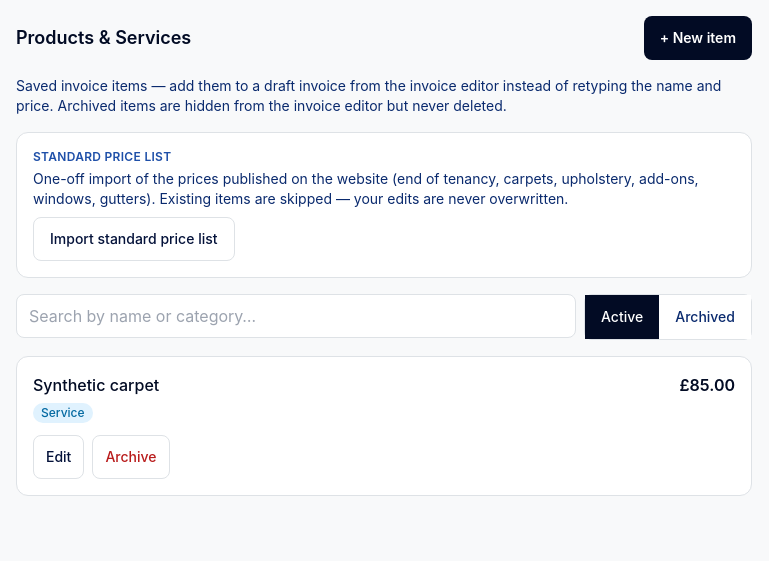
Test: CatalogueListPage request recovery › refreshes the current filter after an earlier archive finishes and names the completed action
This screenshot has width=769, height=561.
Click the button "Archive" at (131, 457), box [92, 435, 170, 479]
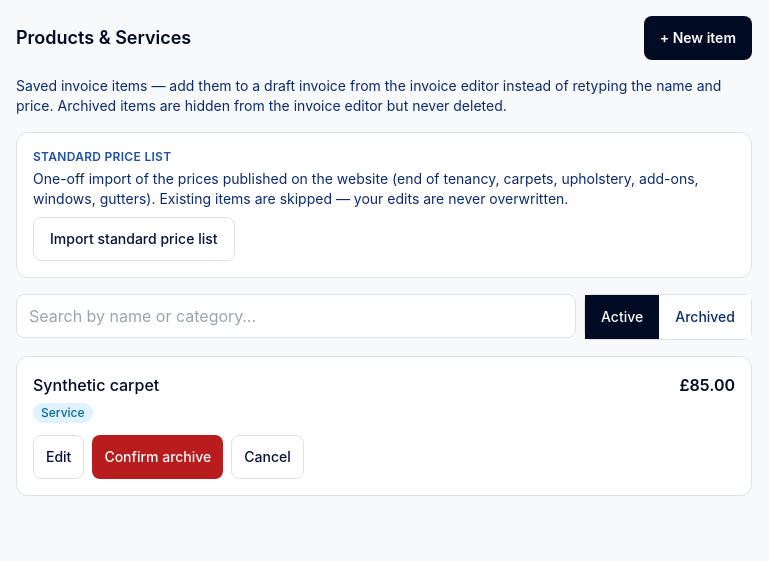
Click the button "Confirm archive" at (158, 457), box [92, 435, 223, 479]
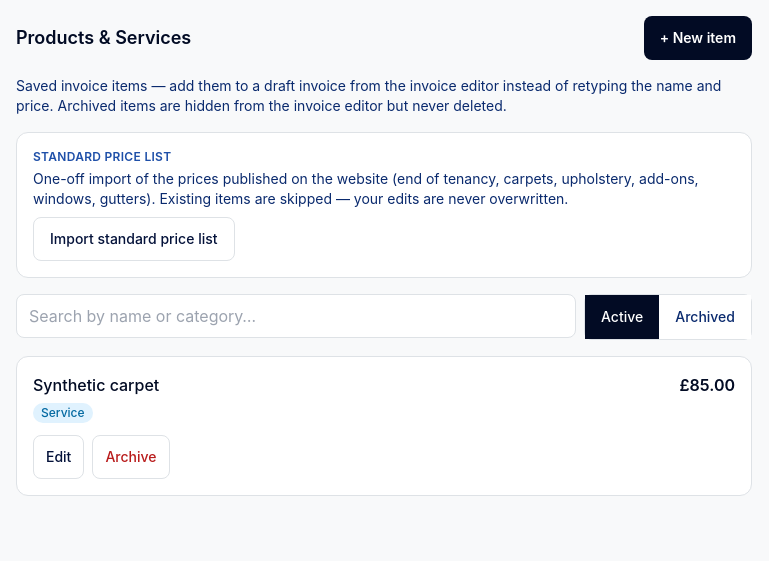
Click the button "archived" at (705, 317), box [659, 295, 751, 339]
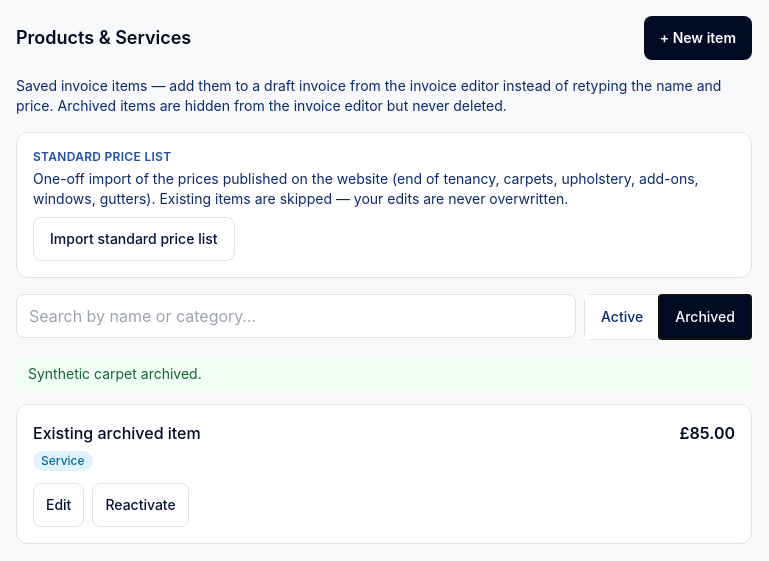
expect the message reads "Synthetic carpet archived.": met, box [28, 365, 202, 382]
expect the text "Existing archived item" is shown: met, box [33, 421, 201, 445]
